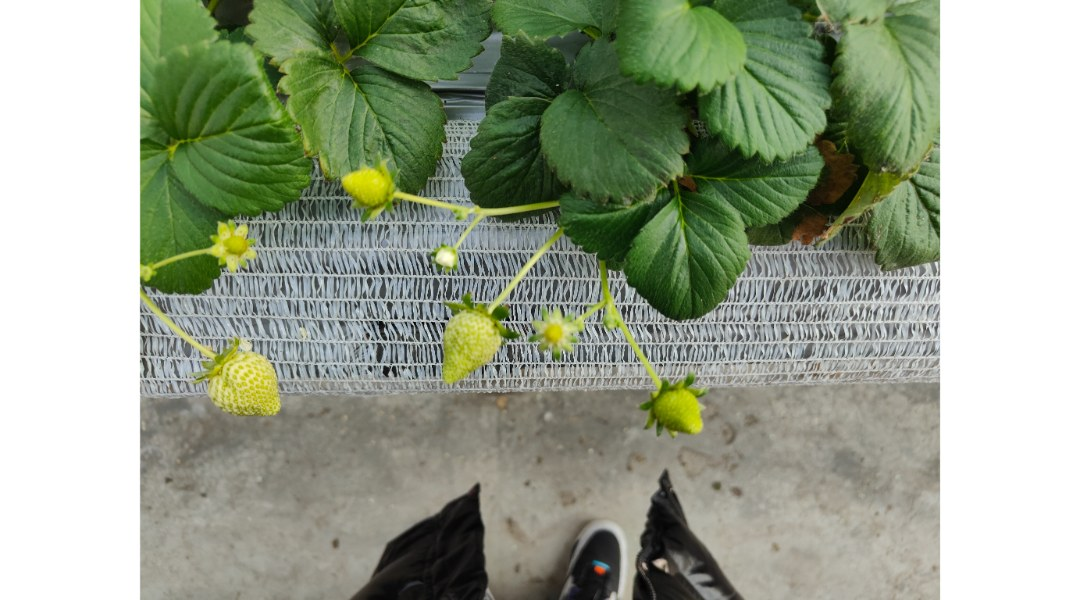berry: (428, 294, 507, 401), (191, 340, 286, 425), (637, 362, 717, 447), (195, 211, 256, 281), (339, 158, 403, 220), (528, 308, 584, 358), (426, 246, 464, 279)
strain: (494, 228, 558, 312), (134, 297, 214, 351), (483, 184, 564, 225), (615, 314, 663, 383), (395, 196, 469, 215)
